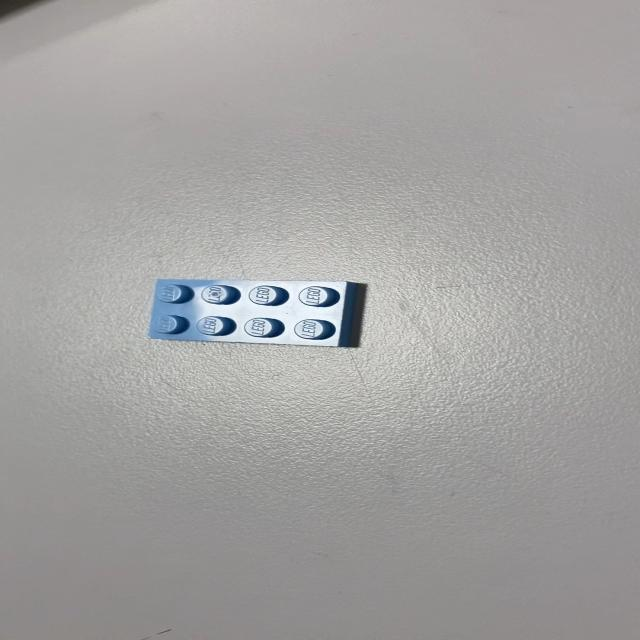C4x2x0: (146, 278, 358, 348)
